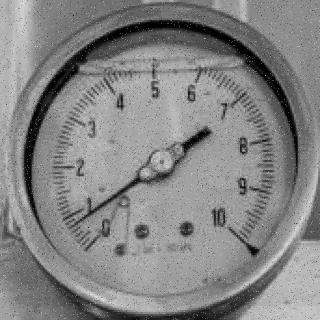gauge: (0, 2, 320, 320), (206, 204, 247, 255), (78, 217, 120, 257), (148, 147, 176, 177), (65, 219, 79, 234)
